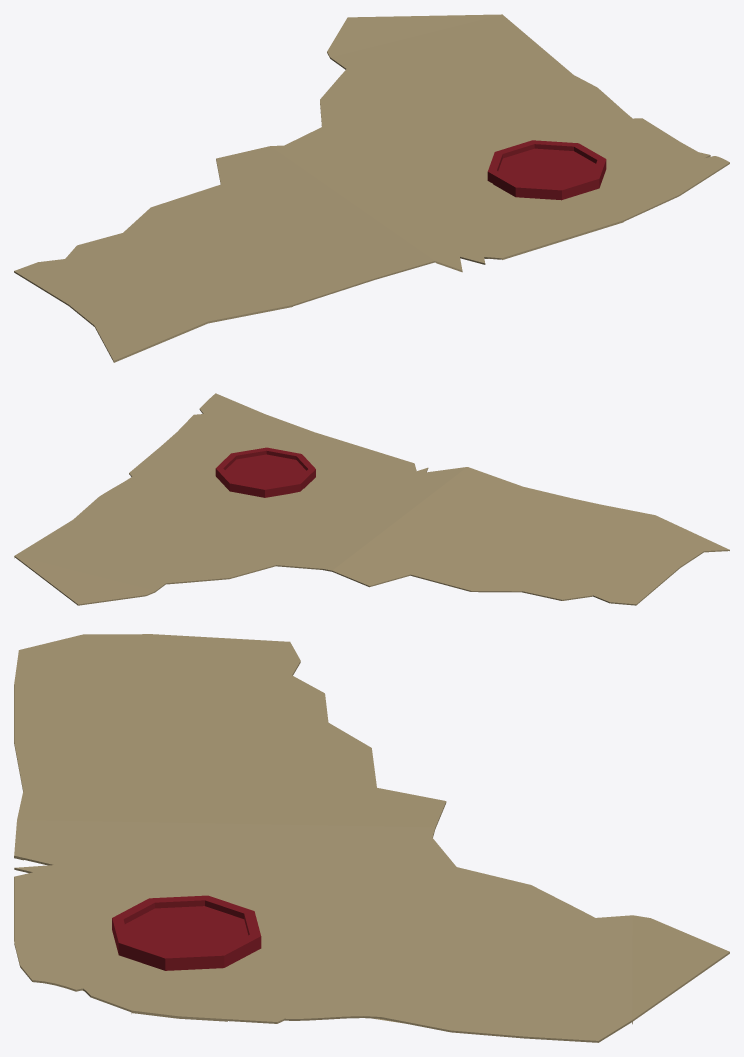
The model's file is Brief003.fbx.
3 views of the same model, one above another, from view 1: azimuth 30°, elevation 25°; view 2: azimuth 150°, elevation 25°; view 3: azimuth 270°, elevation 25° (orthographic). The views are drawn at different scales.
Parts seen in each view (by area): view 1: Brief.003, Stempel; view 2: Brief.003, Stempel; view 3: Brief.003, Stempel.
Part boxes in pixels (bbox=[...]): Brief.003: bbox=[14, 14, 729, 362]; Stempel: bbox=[487, 140, 606, 200]; Brief.003: bbox=[14, 393, 729, 605]; Stempel: bbox=[215, 447, 315, 497]; Brief.003: bbox=[14, 634, 729, 1042]; Stempel: bbox=[112, 895, 261, 970].
Bounding box in the file's own units: 203 × 14.26 × 157.
